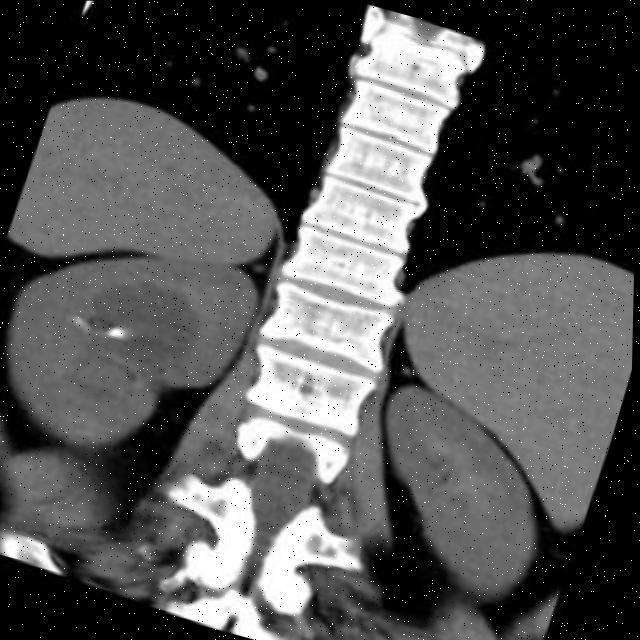Tas_Var: (100, 318, 131, 346), (69, 311, 96, 336)
